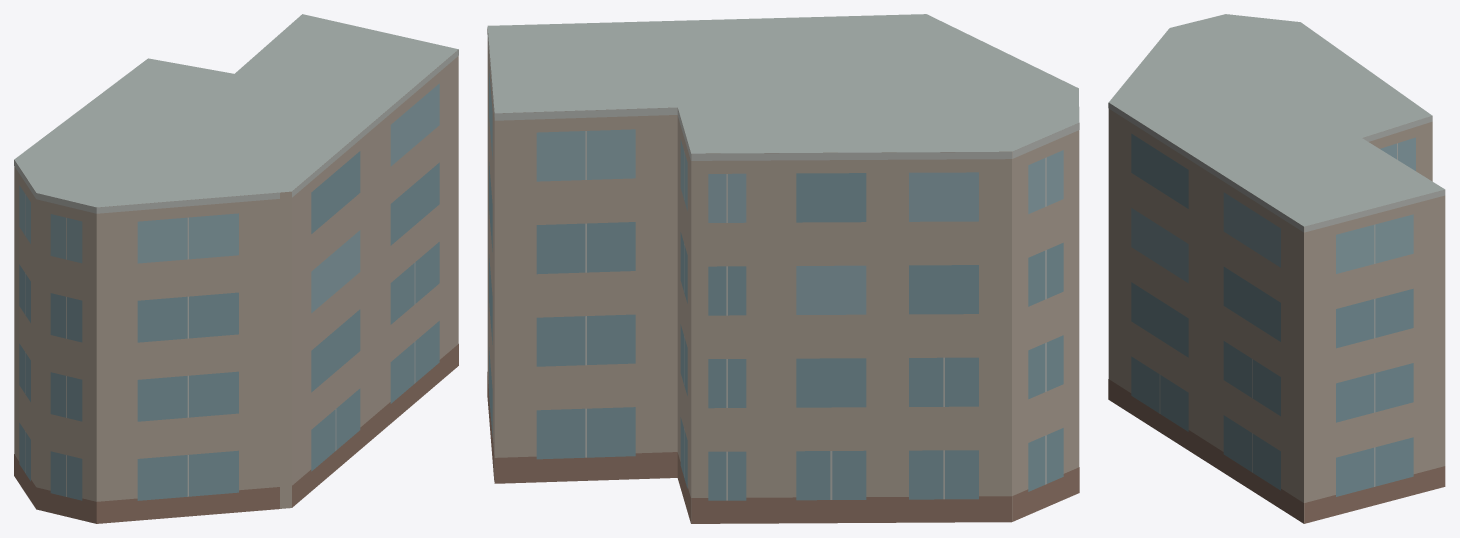
Rendered from survey-upis-32896646.glb.
3 views of the same model, side by side, from view 1: azimuth 30°, elevation 25°; view 2: azimuth 150°, elevation 25°; view 3: azimuth 270°, elevation 25° (orthographic). The views are drawn at different scales.
Parts seen in each view (by area): view 1: survey-upis-32896646.tmp; view 2: survey-upis-32896646.tmp; view 3: survey-upis-32896646.tmp.
Boxes of the visible parts, x1,y1,x2,y2 form: survey-upis-32896646.tmp: (14, 14, 458, 523); survey-upis-32896646.tmp: (487, 14, 1079, 523); survey-upis-32896646.tmp: (1108, 14, 1445, 523).
Bounding box in the file's own units: 18.73 × 12.2 × 12.54.
